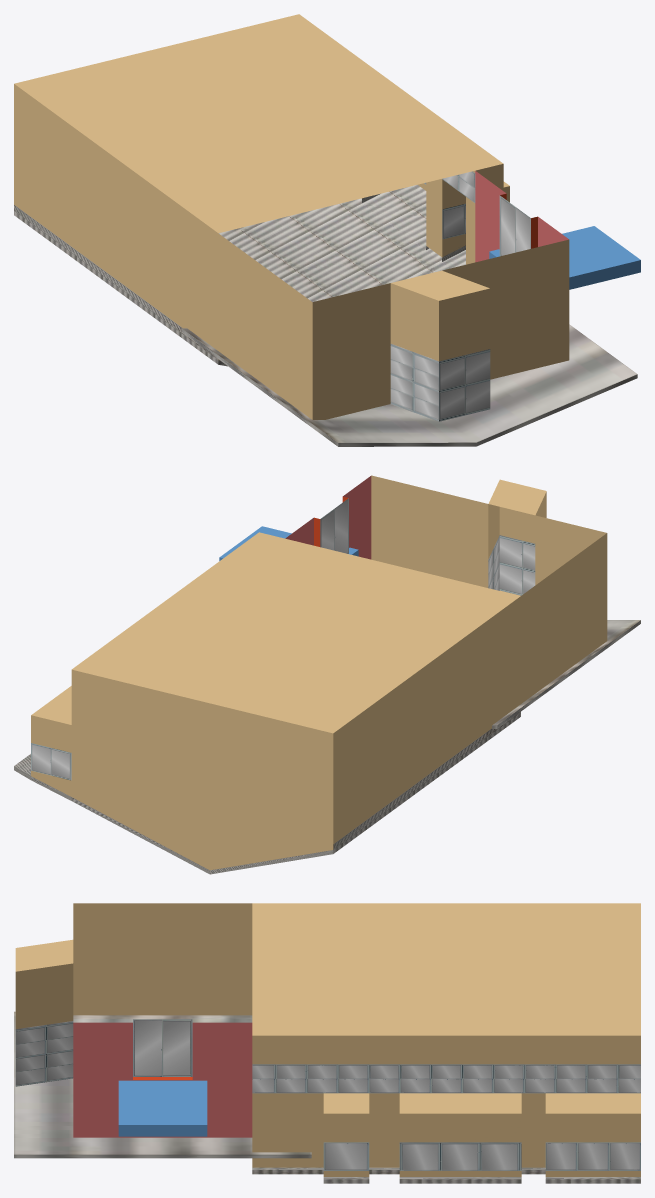
Rendered from Prefeitrua.FBX.
3 renders of one model, top to bottom at view 1: azimuth 30°, elevation 25°; view 2: azimuth 150°, elevation 25°; view 3: azimuth 270°, elevation 25°, orthographic. The views are drawn at different scales.
Visible parts, largest first — view 1: Prefeitura; view 2: Prefeitura; view 3: Prefeitura.
Boxes of the visible parts, x1=… form: Prefeitura: x1=14, y1=14, x2=640, y2=446; Prefeitura: x1=14, y1=475, x2=640, y2=874; Prefeitura: x1=14, y1=903, x2=640, y2=1183.
Size of the model in its own units: 2.72 by 1.36 by 4.34.
Materials: 5 (4 with a texture image).
